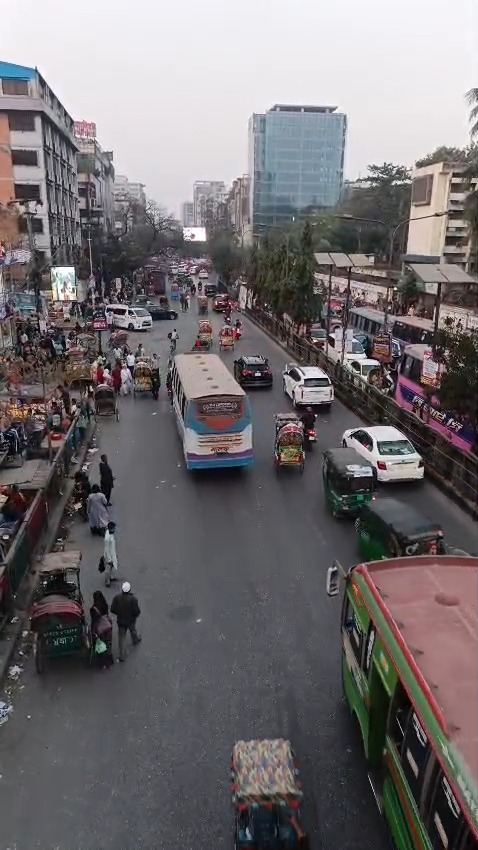Bikes: (304, 409, 318, 448), (233, 318, 246, 341), (221, 307, 238, 323), (190, 284, 197, 300), (199, 278, 205, 293)
Bus: (352, 549, 478, 850), (352, 306, 478, 481), (170, 355, 246, 471)
auto-ricksaw: (232, 727, 313, 839), (37, 538, 87, 674), (195, 316, 238, 357), (278, 404, 302, 472), (91, 386, 129, 423), (367, 365, 401, 398), (136, 361, 158, 397), (199, 295, 209, 313)
cng: (353, 495, 445, 552), (325, 443, 376, 500)
private car: (352, 429, 428, 479), (283, 362, 341, 420), (237, 350, 280, 392), (110, 305, 161, 339), (330, 327, 358, 361), (352, 353, 381, 376), (205, 284, 220, 299), (216, 296, 232, 310)
